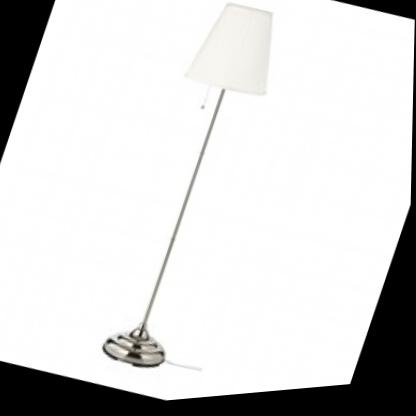Lamp: (81, 0, 301, 393)
